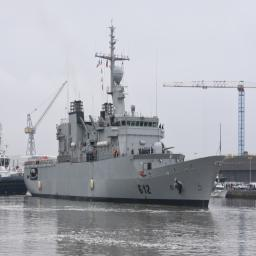Fragata: (24, 17, 227, 212)
